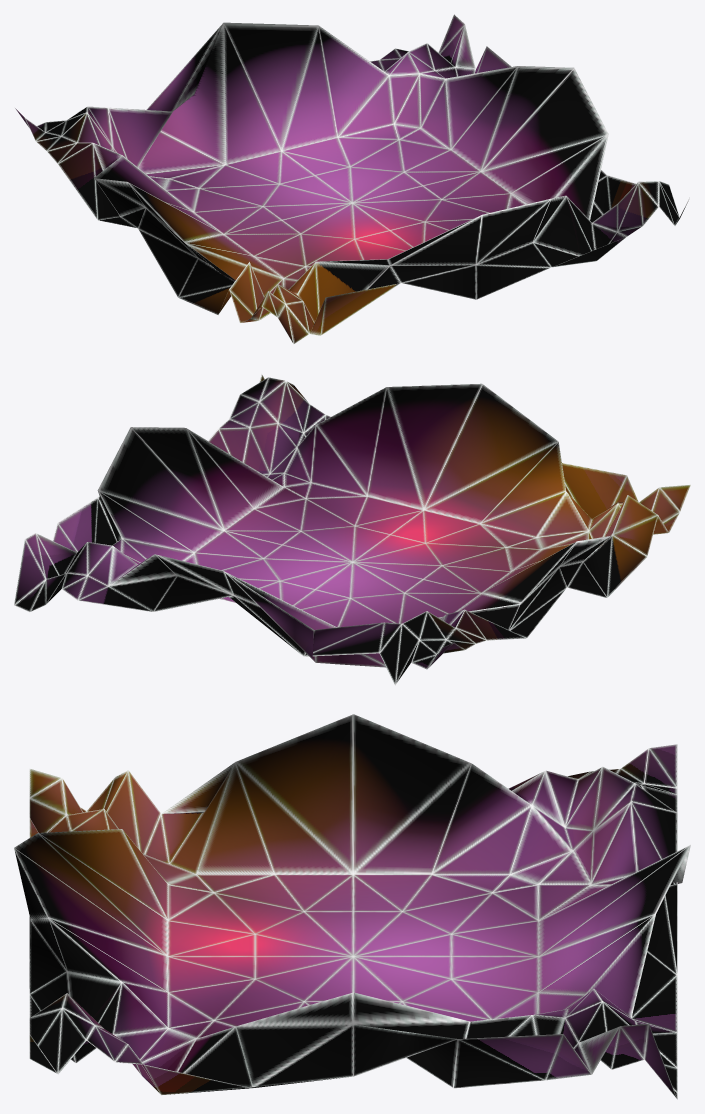
Rendered from virtualLoathingB.dae.
3 renders of one model, top to bottom at view 1: azimuth 30°, elevation 25°; view 2: azimuth 150°, elevation 25°; view 3: azimuth 270°, elevation 25°, orthographic. The views are drawn at different scales.
Parts seen in each view (by area): view 1: PlaneMain; view 2: PlaneMain; view 3: PlaneMain.
Boxes of the visible parts, left/top/right/bottom form: PlaneMain: left=15, top=14, right=688, bottom=344; PlaneMain: left=14, top=374, right=690, bottom=685; PlaneMain: left=14, top=714, right=690, bottom=1099.
Size of the model in its own units: 36.54 by 36.7 by 8.4.
1 material, 1 textured.
